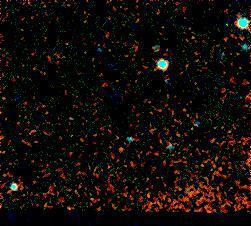star: (106, 134, 136, 164)
